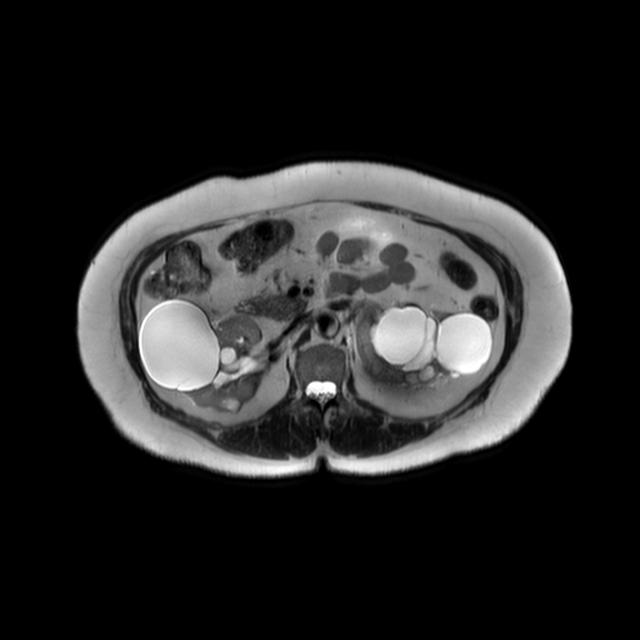sag: (138, 298, 270, 416)
sol: (354, 303, 493, 391)
